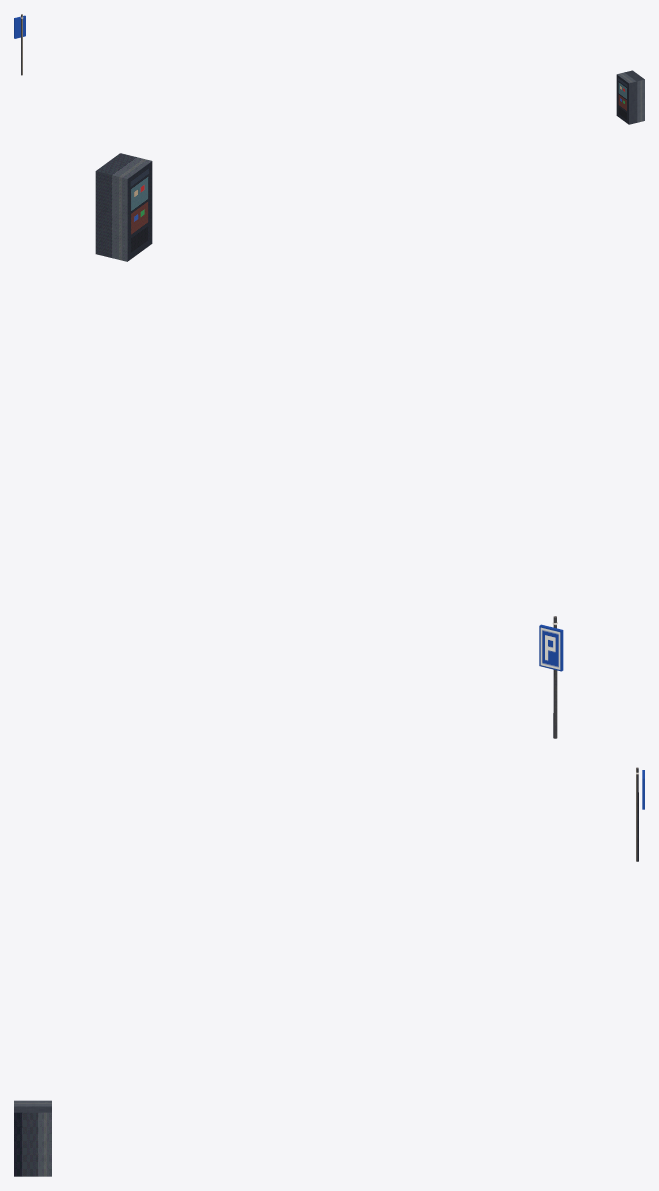
File: lot_props.glb
3 renders of one model, top to bottom at view 1: azimuth 30°, elevation 25°; view 2: azimuth 150°, elevation 25°; view 3: azimuth 270°, elevation 25°, orthographic. The views are drawn at different scales.
Visible parts, largest first — view 1: Vending, Sign; view 2: Vending, Sign; view 3: Vending.
Part boxes in pixels (<box>): Vending: <box>616,70,644,124</box>; Sign: <box>14,14,25,75</box>; Vending: <box>95,153,152,261</box>; Sign: <box>539,616,563,738</box>; Vending: <box>14,1100,51,1176</box>.
Size of the model in its own units: 19.89 by 2.7 by 16.6.
Materials: 6 (6 with a texture image).
